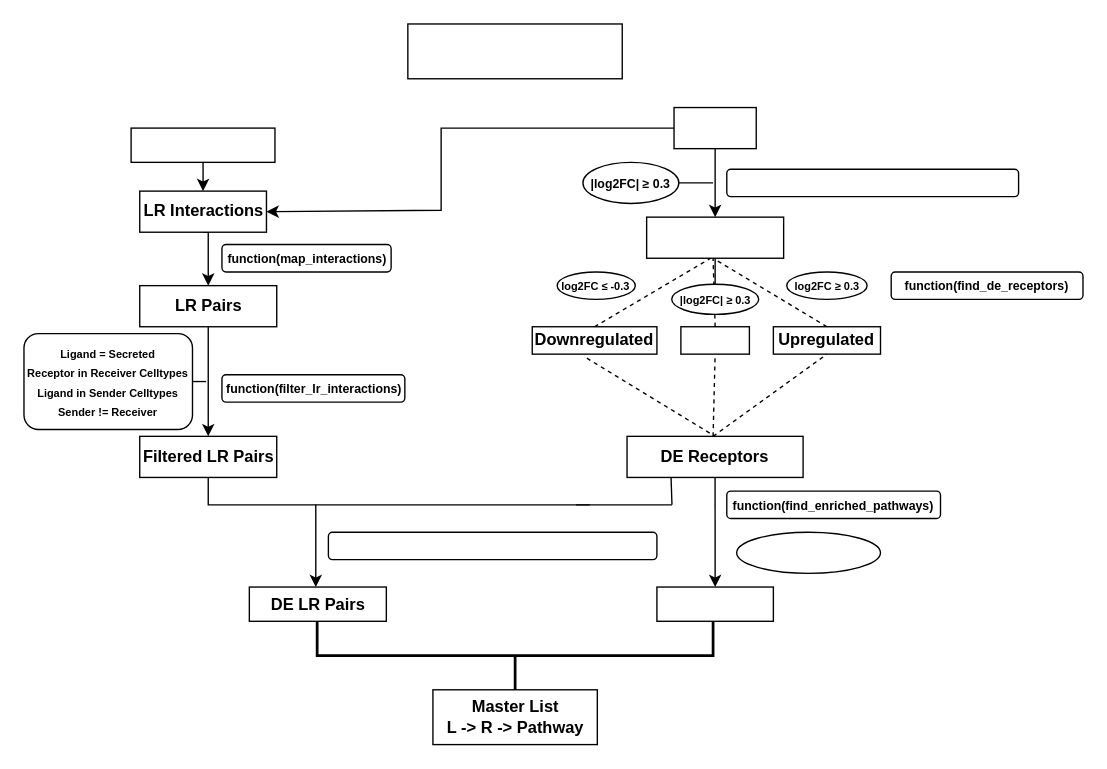
The diagram is 1107 pixels wide and 769 high, and some of its shapes have lost their labels. Here are the shapes that lost their labels. From the top down, the box of each, then its label:
(406, 23, 622, 79): scSignalMap
(130, 127, 275, 162): MultiNicheNet DB
(673, 106, 756, 149): scRNA
(725, 168, 1019, 197): function(find_markers_btwn_cond_for_celltype)
(645, 216, 784, 258): DE Genes
(680, 325, 749, 354): Both
(327, 531, 657, 560): function(intersect_de_receptors_with_lr_interactions)
(735, 531, 880, 573): BH and P-value ≤ 0.05
(656, 586, 773, 621): Pathways
